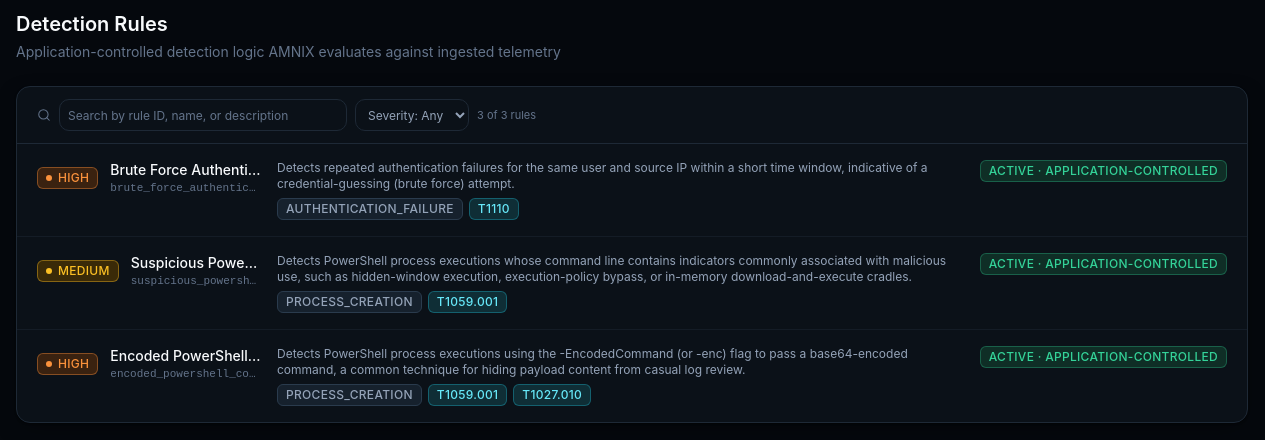
Test case: RuleExplorerPage › filters rules by severity
The width and height of the screenshot is (1265, 440).
Select "medium" in the dropdown named "Severity" at (412, 115), box x1=355 y1=99 x2=469 y2=131
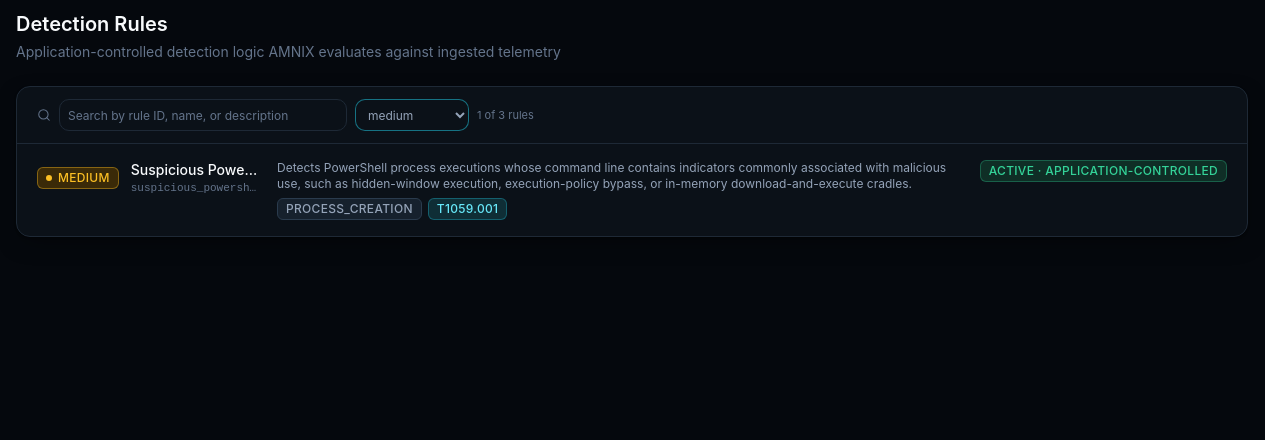
Check: the text "Suspicious PowerShell Execution" is shown, box x1=131 y1=160 x2=261 y2=180
Check: the link "Brute Force Authentication" is gone
